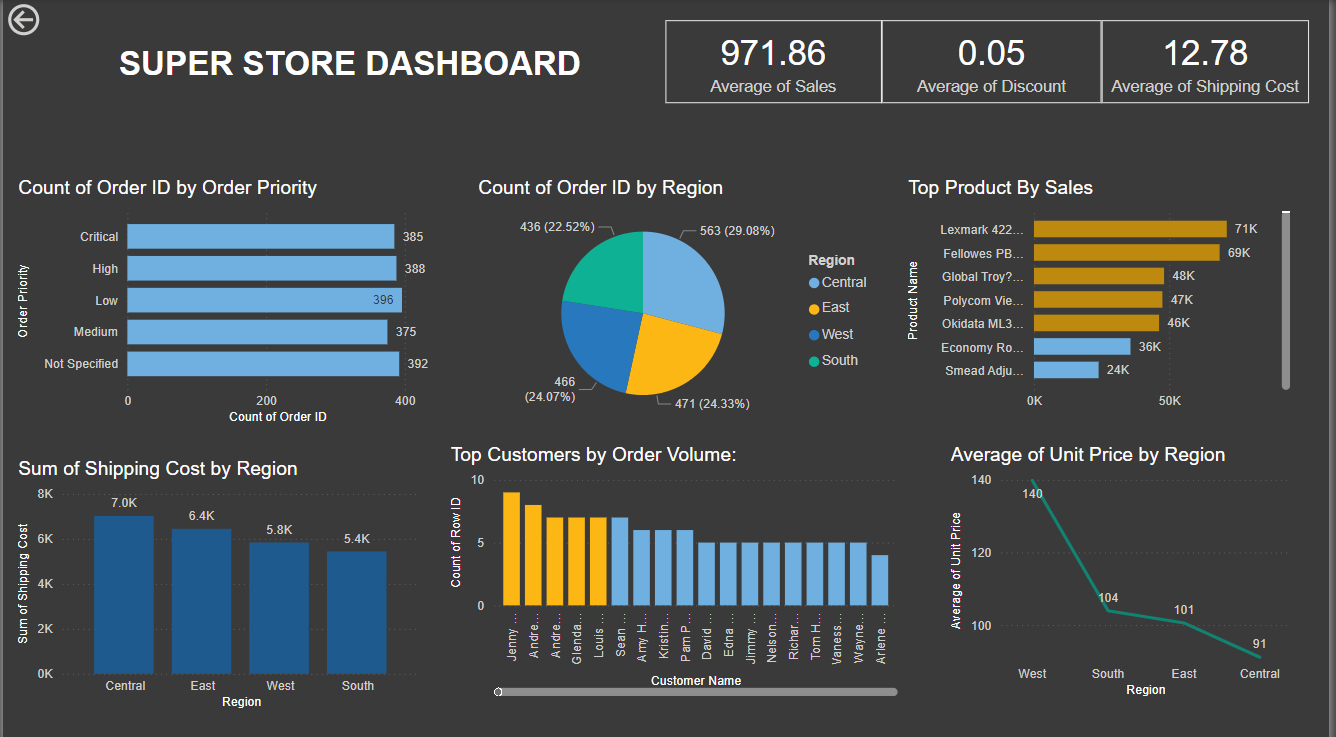

The dashboard page shown, as its layout file describes it:
{"tool":"powerbi","page":{"name":"Page 1","canvas":[1280,720],"ordinal":0},"visuals":[{"type":"clusteredBarChart","fields":{"Category":["cleaned_SuperStore.Order Priority"],"Y":["cleaned_SuperStore.Order ID"]},"box":[9.7,171.3,417.4,243.7],"z":0},{"type":"pieChart","fields":{"Category":["cleaned_SuperStore.Region"],"Y":["cleaned_SuperStore.Order ID"]},"box":[453.6,171.3,394.5,243.7],"z":1000},{"type":"actionButton","box":[0,0,100,40],"z":2000},{"type":"card","fields":{"Values":["cleaned_SuperStore.Shipping Cost"]},"box":[1060.5,20.5,200.3,79.6],"z":3000},{"type":"card","fields":{"Values":["cleaned_SuperStore.Discount"]},"box":[848.1,20.5,212.3,79.6],"z":4000},{"type":"card","fields":{"Values":["cleaned_SuperStore.Sales"]},"box":[639.4,20.5,208.7,79.6],"z":5000},{"type":"columnChart","fields":{"Category":["cleaned_SuperStore.Region"],"Y":["cleaned_SuperStore.Shipping Cost"]},"box":[9.7,442.8,398.1,247.3],"z":6000},{"type":"columnChart","title":"Top Customers by Order Volume:","fields":{"Category":["cleaned_SuperStore.Customer Name"],"Y":["cleaned_SuperStore.Row ID"]},"box":[427.1,429.5,441.6,248.5],"z":7000},{"type":"lineChart","fields":{"Category":["cleaned_SuperStore.Region"],"Y":["cleaned_SuperStore.Unit Price"]},"box":[909.7,429.5,337.8,248.5],"z":8000},{"type":"barChart","title":"Top Product By Sales","fields":{"Category":["cleaned_SuperStore.Product Name"],"Y":["cleaned_SuperStore.T_Sales"]},"box":[868.6,171.3,378.8,243.7],"z":9000},{"type":"textbox","box":[49.5,39.8,570.6,56.7],"z":10000}]}

Visuals, with their boxes in screenshot pixels (x1, y1, x2, y2), scaled from the page's 1280x720 canvas onto the 1336x737 screenshot:
clusteredBarChart - cleaned_SuperStore.Order Priority x cleaned_SuperStore.Order ID: x1=10, y1=175, x2=446, y2=425
pieChart - cleaned_SuperStore.Region x cleaned_SuperStore.Order ID: x1=473, y1=175, x2=885, y2=425
actionButton: x1=0, y1=0, x2=104, y2=41
card - cleaned_SuperStore.Shipping Cost: x1=1107, y1=21, x2=1316, y2=102
card - cleaned_SuperStore.Discount: x1=885, y1=21, x2=1107, y2=102
card - cleaned_SuperStore.Sales: x1=667, y1=21, x2=885, y2=102
columnChart - cleaned_SuperStore.Region x cleaned_SuperStore.Shipping Cost: x1=10, y1=453, x2=426, y2=706
"Top Customers by Order Volume:" columnChart: x1=446, y1=440, x2=907, y2=694
lineChart - cleaned_SuperStore.Region x cleaned_SuperStore.Unit Price: x1=949, y1=440, x2=1302, y2=694
"Top Product By Sales" barChart: x1=907, y1=175, x2=1302, y2=425
textbox: x1=52, y1=41, x2=647, y2=99
